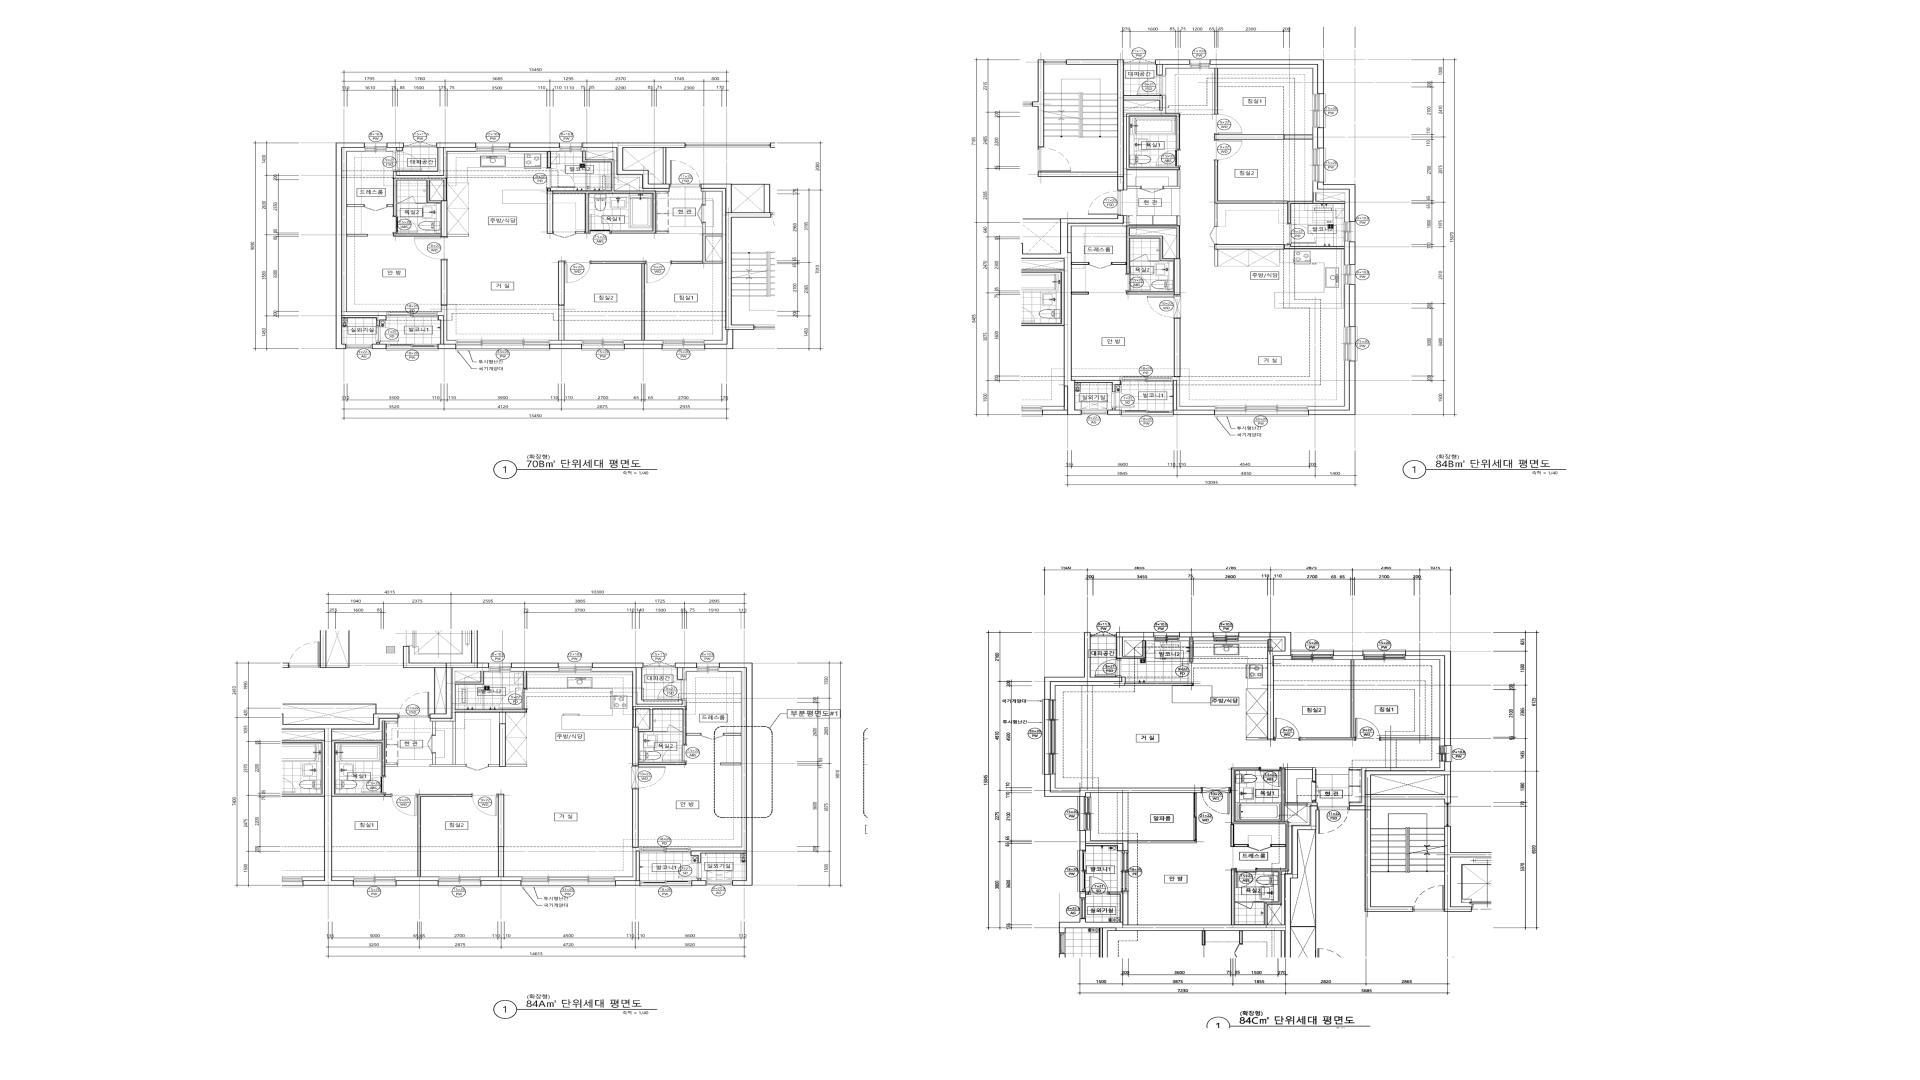door: (1317, 806, 1349, 834), (669, 160, 701, 187), (398, 692, 430, 718), (1088, 190, 1121, 215), (1038, 147, 1071, 172), (1413, 886, 1444, 912), (632, 765, 665, 789), (1147, 295, 1180, 319), (1201, 788, 1231, 814), (1137, 75, 1166, 96), (645, 261, 672, 283), (564, 261, 591, 283), (1288, 223, 1316, 244), (547, 168, 575, 189), (499, 689, 527, 710), (658, 680, 687, 700), (1355, 718, 1381, 740), (1274, 718, 1300, 740), (472, 794, 498, 816), (391, 794, 417, 816), (1214, 114, 1242, 134), (393, 151, 421, 171), (1215, 140, 1242, 160), (1095, 659, 1121, 677), (1126, 274, 1151, 292), (588, 214, 611, 233), (1156, 149, 1180, 167), (361, 776, 385, 794), (1235, 869, 1257, 888), (1260, 768, 1282, 787), (393, 216, 417, 233), (662, 745, 686, 762), (1088, 877, 1109, 895), (678, 863, 701, 879), (1112, 392, 1135, 408), (377, 326, 399, 342), (1193, 793, 1197, 841), (1312, 781, 1320, 803), (553, 231, 576, 238), (1248, 844, 1271, 851), (1090, 631, 1116, 637), (1141, 186, 1163, 193), (1089, 262, 1111, 269), (1210, 226, 1218, 244), (1130, 254, 1148, 262), (397, 196, 415, 204), (697, 205, 705, 223), (427, 735, 435, 753), (364, 205, 387, 211), (701, 733, 724, 739), (1235, 902, 1253, 909), (466, 765, 489, 770), (667, 725, 683, 732)
wall: (1059, 805, 1317, 958), (1038, 60, 1163, 190), (1349, 762, 1451, 912), (691, 663, 752, 886), (1231, 767, 1317, 925), (1060, 215, 1124, 415), (324, 714, 398, 886), (701, 184, 771, 349), (336, 143, 386, 349), (691, 668, 746, 851), (430, 668, 527, 767), (547, 151, 656, 234), (1215, 160, 1345, 223), (342, 148, 386, 315), (403, 646, 489, 719), (1239, 632, 1291, 740), (1044, 632, 1125, 699), (1111, 226, 1180, 295), (582, 143, 685, 189), (417, 794, 472, 877), (1300, 660, 1355, 740), (1406, 651, 1451, 746), (591, 261, 645, 340), (1444, 826, 1492, 912), (701, 189, 727, 344), (1124, 96, 1166, 190), (1210, 60, 1324, 94), (582, 148, 669, 191), (592, 663, 683, 704), (592, 668, 687, 706), (1044, 775, 1201, 797), (632, 706, 686, 766), (393, 178, 447, 237), (1210, 65, 1317, 94), (1126, 114, 1180, 170), (396, 143, 476, 176), (1309, 361, 1356, 415), (393, 148, 476, 178), (1291, 830, 1316, 927), (1068, 215, 1127, 253), (1309, 361, 1349, 410), (1317, 182, 1356, 222), (1173, 380, 1215, 415), (1371, 775, 1444, 795), (1313, 182, 1349, 222), (1172, 377, 1215, 410), (550, 306, 582, 344), (1032, 60, 1044, 147), (1116, 632, 1154, 659), (1080, 831, 1128, 851), (615, 851, 640, 886), (332, 719, 398, 732), (615, 847, 639, 881), (1215, 244, 1345, 249), (438, 306, 455, 344), (438, 315, 456, 349), (1214, 134, 1313, 140), (1123, 637, 1154, 656), (1155, 60, 1190, 75), (498, 794, 504, 877), (1109, 892, 1123, 922), (632, 789, 639, 848), (706, 236, 722, 261), (1231, 824, 1248, 847), (455, 671, 484, 684), (675, 663, 697, 680), (1174, 318, 1180, 377), (1163, 170, 1180, 189), (1179, 632, 1214, 641), (499, 724, 506, 767), (430, 180, 443, 203), (636, 709, 650, 729), (441, 260, 447, 306), (558, 261, 564, 306), (1163, 65, 1190, 75), (1334, 651, 1363, 660), (509, 143, 560, 148), (1349, 285, 1355, 327), (1268, 637, 1285, 651), (511, 663, 558, 668), (1231, 869, 1235, 925), (395, 881, 438, 886), (1344, 285, 1349, 327), (1128, 840, 1197, 843), (509, 148, 560, 152), (481, 881, 521, 886), (624, 344, 662, 349), (511, 668, 558, 672), (1381, 737, 1440, 740), (395, 877, 438, 881), (683, 668, 697, 680), (1349, 242, 1356, 265), (550, 344, 582, 349), (481, 877, 521, 881), (624, 340, 662, 344), (1072, 377, 1121, 380), (386, 143, 404, 151), (1317, 128, 1324, 148), (1215, 68, 1218, 114), (1125, 683, 1193, 685), (1344, 242, 1349, 265), (663, 148, 666, 184), (692, 879, 706, 886), (372, 342, 386, 349), (671, 261, 702, 264), (1108, 408, 1121, 415), (332, 877, 353, 881), (1313, 128, 1317, 148), (1190, 637, 1193, 662), (1214, 249, 1218, 267), (523, 671, 527, 689), (547, 151, 551, 168), (447, 234, 469, 237), (506, 764, 527, 767), (1246, 737, 1267, 740), (434, 668, 435, 714), (686, 733, 701, 736), (1215, 204, 1217, 226), (386, 148, 396, 152), (1349, 767, 1361, 770), (1080, 892, 1086, 898), (732, 184, 764, 185), (1177, 216, 1180, 226), (656, 231, 668, 233), (385, 765, 397, 767), (489, 765, 499, 767), (576, 231, 585, 233), (653, 731, 667, 732), (387, 205, 393, 207), (1253, 902, 1265, 903), (415, 203, 426, 204), (1148, 261, 1159, 262), (1086, 892, 1088, 894)
window: (1042, 699, 1056, 775), (455, 340, 550, 351), (1215, 406, 1309, 417), (521, 877, 615, 887), (1077, 797, 1091, 831), (1291, 649, 1334, 660), (1363, 649, 1406, 660), (662, 340, 705, 351), (582, 340, 624, 351), (1313, 94, 1326, 128), (1313, 148, 1326, 182), (1344, 327, 1357, 361), (353, 877, 396, 887), (438, 877, 481, 887), (1077, 850, 1086, 892), (1121, 410, 1173, 417), (386, 344, 438, 351), (1121, 851, 1129, 892), (640, 881, 692, 887), (639, 847, 691, 853), (558, 663, 592, 672), (476, 143, 509, 152), (386, 312, 438, 317), (1121, 377, 1172, 382), (1344, 222, 1356, 242), (1214, 632, 1239, 641), (1154, 632, 1179, 641), (1344, 265, 1355, 285), (1439, 746, 1452, 762), (697, 663, 719, 672), (489, 663, 511, 672), (364, 143, 386, 152), (560, 143, 582, 152), (404, 142, 436, 148), (643, 662, 675, 668), (1124, 59, 1155, 65), (1190, 60, 1210, 68), (1445, 803, 1451, 826), (1081, 410, 1107, 415), (346, 344, 372, 349), (1080, 898, 1086, 919), (1044, 60, 1066, 65), (706, 881, 732, 885)
